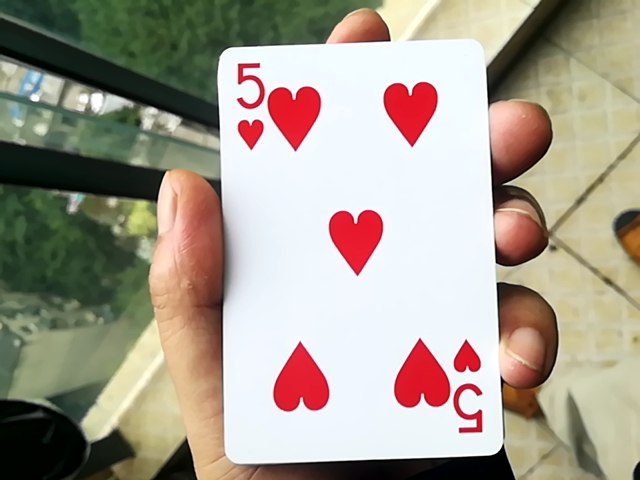hx 5: (210, 19, 505, 460)
